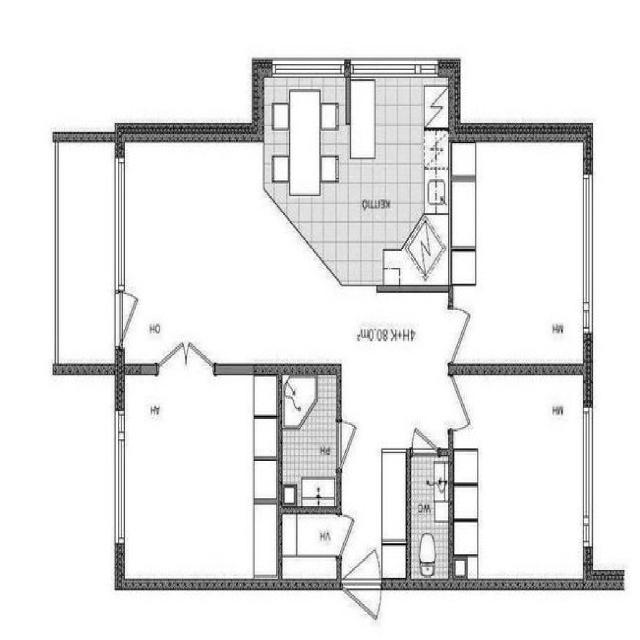door: (341, 551, 382, 619), (158, 340, 216, 373), (445, 371, 470, 436), (117, 282, 141, 349), (450, 300, 472, 367), (337, 407, 357, 469), (340, 511, 354, 562), (409, 433, 439, 455)
window: (578, 160, 595, 338), (108, 151, 128, 291), (351, 53, 438, 79), (114, 406, 125, 548), (582, 398, 592, 551), (268, 57, 344, 74)
zone: (123, 133, 344, 373), (258, 68, 453, 282), (117, 362, 282, 583), (452, 135, 588, 373), (448, 364, 582, 587), (350, 282, 444, 460), (282, 362, 342, 511), (276, 508, 342, 591), (410, 453, 450, 583)
